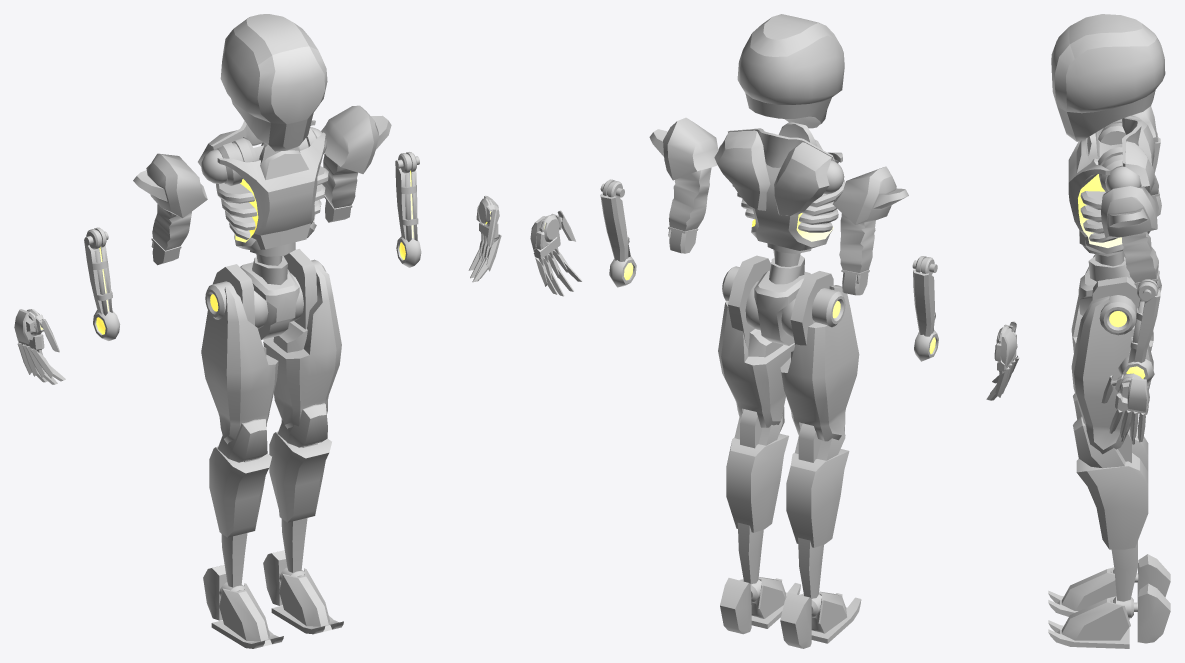
The model's file is BlakeSeperateBody.fbx.
3 views of the same model, side by side, from view 1: azimuth 30°, elevation 25°; view 2: azimuth 150°, elevation 25°; view 3: azimuth 270°, elevation 25° (orthographic).
Visible parts, largest first — view 1: BlakeParts_Torso, BlakeParts_Head, BlakeParts_ThighR, BlakeParts_ThighL, BlakeParts_CalfR, BlakeParts_CalfL, BlakeParts_ArmL, BlakeParts_ArmR, BlakeParts_FootL, BlakeParts_FootR, BlakeParts_Hip, BlakeParts_ForearmL (+3 smaller); view 2: BlakeParts_Torso, BlakeParts_Head, BlakeParts_ThighR, BlakeParts_ThighL, BlakeParts_CalfR, BlakeParts_CalfL, BlakeParts_ArmL, BlakeParts_ArmR, BlakeParts_Hip, BlakeParts_FootR, BlakeParts_FootL, BlakeParts_HandL (+3 smaller); view 3: BlakeParts_Head, BlakeParts_Torso, BlakeParts_CalfL, BlakeParts_ThighL, BlakeParts_FootL, BlakeParts_ArmL, BlakeParts_FootR, BlakeParts_HandL, BlakeParts_ForearmL, BlakeParts_Hip, BlakeParts_ArmR, BlakeParts_CalfR (+1 smaller).
Part boxes in pixels (box(x1,y1,x2,y2)): BlakeParts_Torso: box(198, 120, 328, 284); BlakeParts_Head: box(220, 14, 327, 151); BlakeParts_ThighR: box(201, 264, 278, 444); BlakeParts_ThighL: box(263, 249, 341, 428); BlakeParts_CalfR: box(209, 419, 271, 587); BlakeParts_CalfL: box(269, 403, 331, 572); BlakeParts_ArmL: box(321, 105, 391, 222); BlakeParts_ArmR: box(133, 153, 207, 265); BlakeParts_FootL: box(263, 550, 343, 634); BlakeParts_FootR: box(203, 565, 283, 648); BlakeParts_Hip: box(205, 259, 326, 339); BlakeParts_ForearmL: box(395, 152, 421, 267); BlakeParts_Torso: box(714, 121, 845, 284); BlakeParts_Head: box(737, 14, 844, 128); BlakeParts_ThighR: box(780, 271, 859, 441); BlakeParts_ThighL: box(718, 255, 795, 427); BlakeParts_CalfR: box(786, 423, 849, 598); BlakeParts_CalfL: box(726, 407, 788, 584); BlakeParts_ArmL: box(649, 117, 718, 253); BlakeParts_ArmR: box(832, 166, 908, 295); BlakeParts_Hip: box(722, 266, 845, 345); BlakeParts_FootR: box(780, 591, 861, 648); BlakeParts_FootL: box(720, 577, 800, 634); BlakeParts_HandL: box(530, 210, 582, 296); BlakeParts_Head: box(1051, 14, 1165, 141); BlakeParts_Torso: box(1068, 115, 1154, 281); BlakeParts_CalfL: box(1073, 415, 1148, 601); BlakeParts_ThighL: box(1071, 276, 1153, 454); BlakeParts_FootL: box(1048, 583, 1170, 648); BlakeParts_ArmL: box(1101, 186, 1161, 291); BlakeParts_FootR: box(1048, 554, 1170, 619); BlakeParts_HandL: box(1101, 373, 1149, 444); BlakeParts_ForearmL: box(1118, 279, 1160, 384); BlakeParts_Hip: box(1078, 272, 1136, 335); BlakeParts_ArmR: box(1132, 106, 1161, 216); BlakeParts_CalfR: box(1073, 393, 1148, 471).
Bounding box in the file's own units: 156 × 187 × 34.44.
